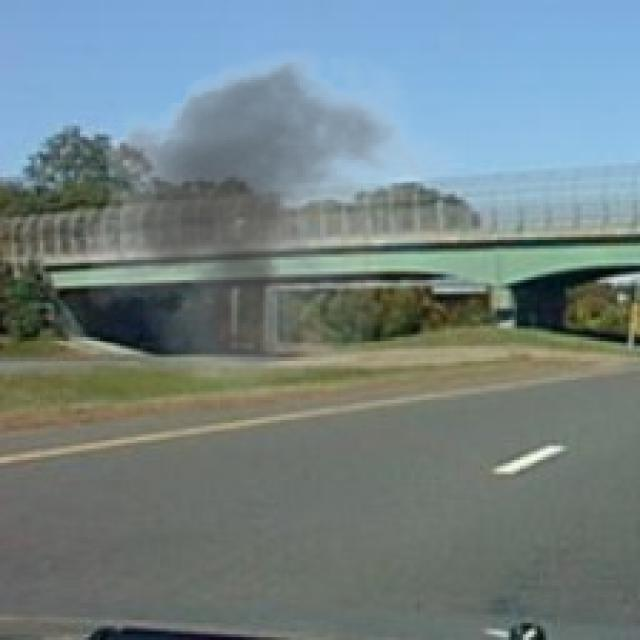Smoke: (66, 34, 468, 400)
